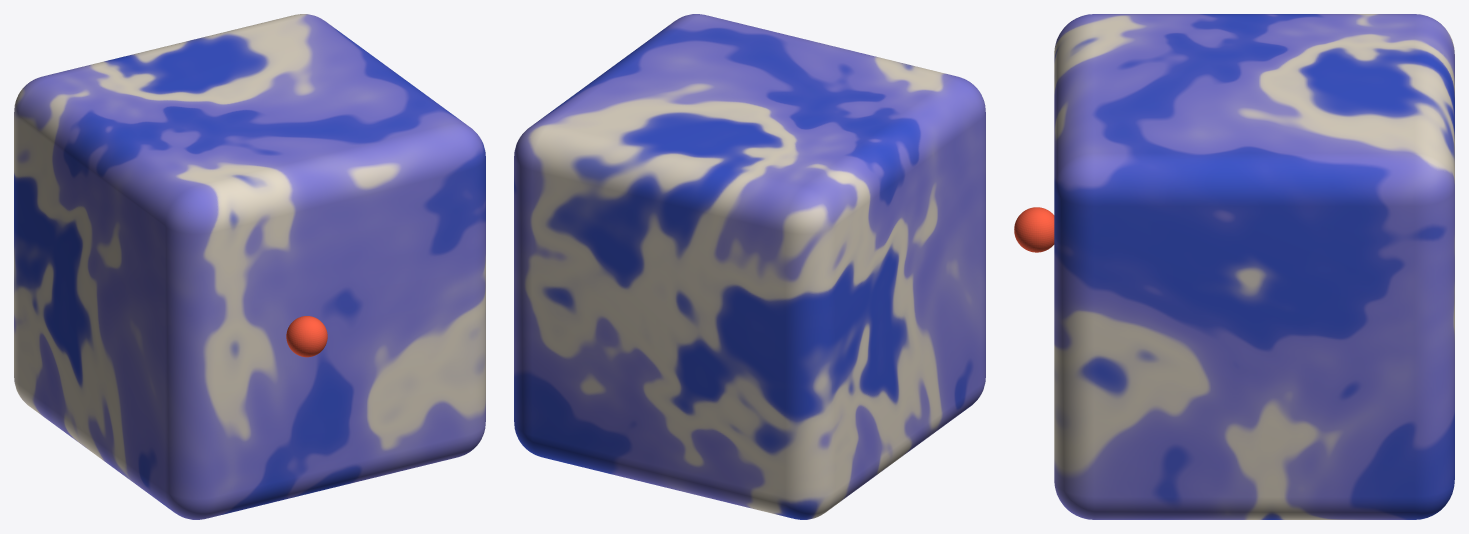
File: aizk-memory-cube.glb
3 views of the same model, side by side, from view 1: azimuth 30°, elevation 25°; view 2: azimuth 150°, elevation 25°; view 3: azimuth 270°, elevation 25° (orthographic). The views are drawn at different scales.
Visible parts, largest first — view 1: Memory cube, Source node; view 2: Memory cube; view 3: Memory cube, Source node.
Part boxes in pixels (<box>): Memory cube: <box>14,14,485,519</box>; Source node: <box>286,316,327,357</box>; Memory cube: <box>514,14,985,519</box>; Memory cube: <box>1054,14,1454,519</box>; Source node: <box>1014,207,1054,252</box>.
Bounding box in the file's own units: 3 × 3 × 3.3.
2 materials, 1 textured.
